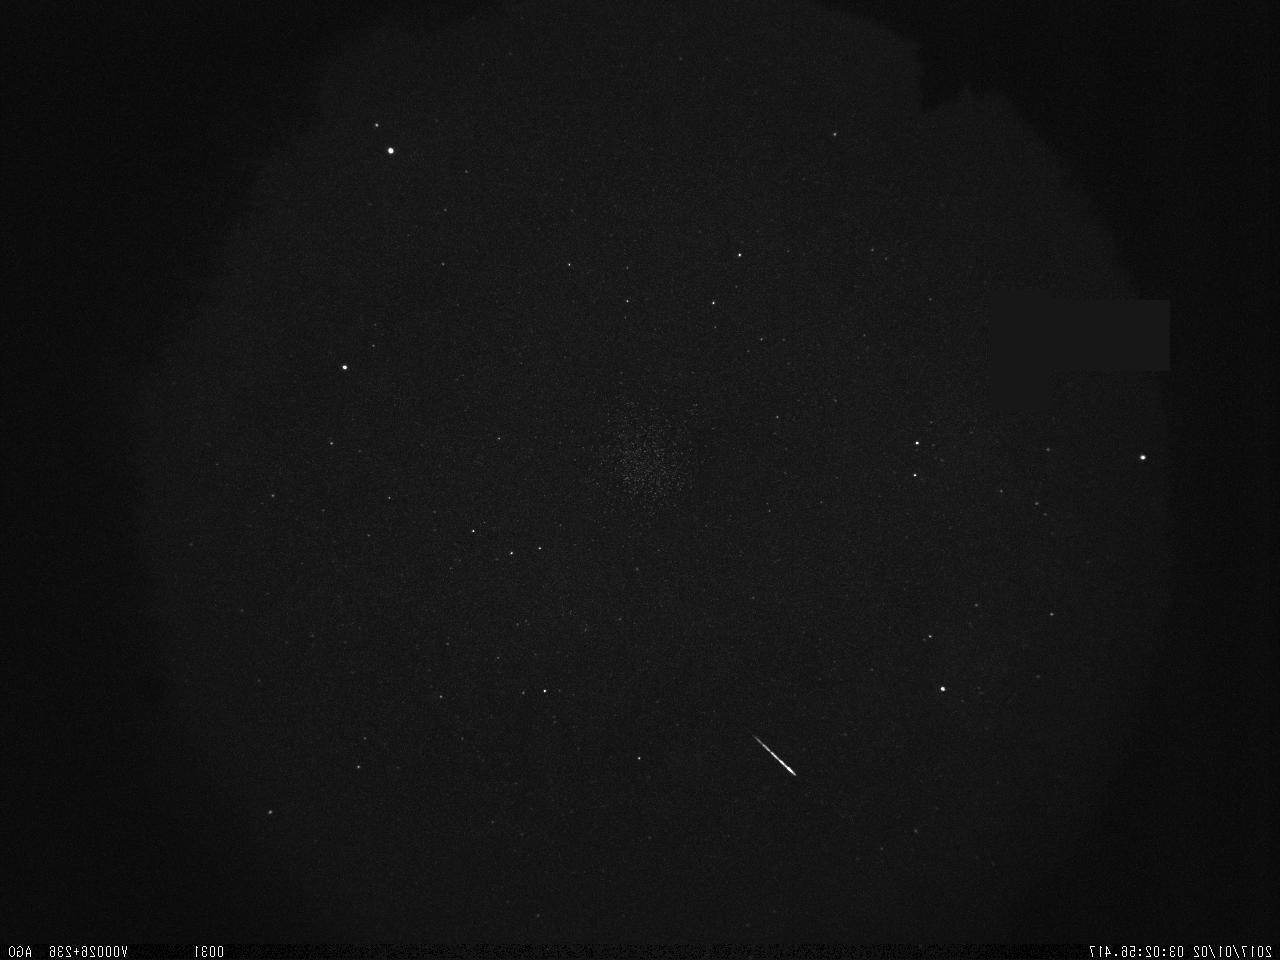meteor: (742, 735, 800, 784)
